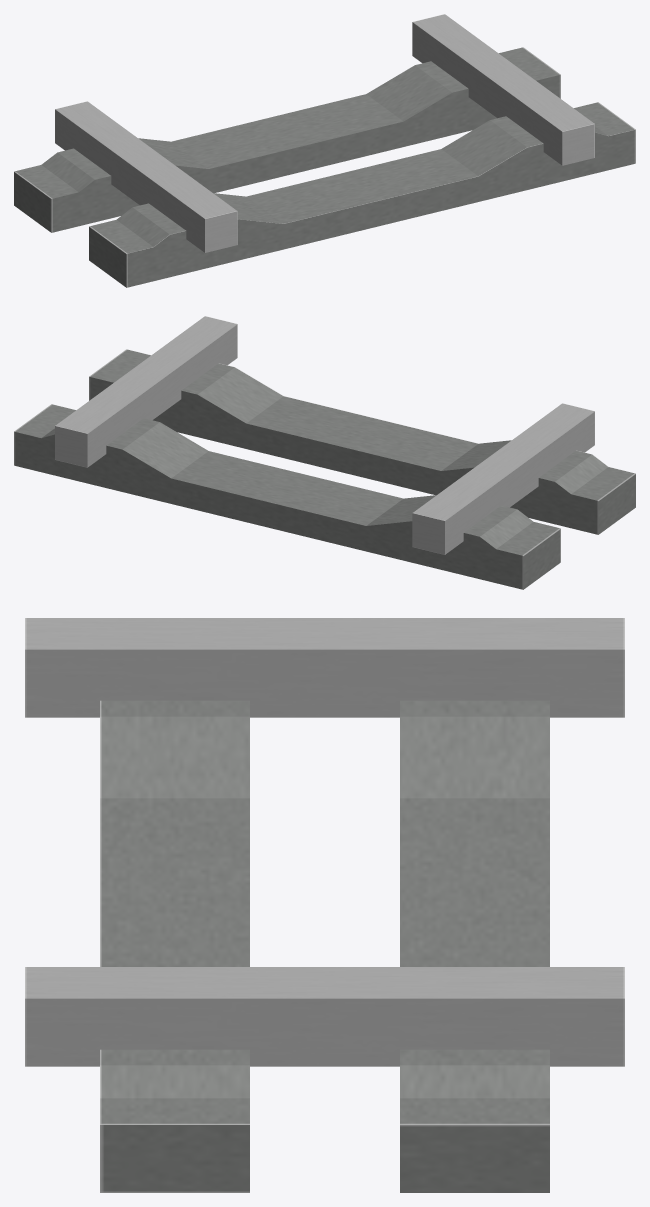
File: rail_nor_straight.obj
3 renders of one model, top to bottom at view 1: azimuth 30°, elevation 25°; view 2: azimuth 150°, elevation 25°; view 3: azimuth 270°, elevation 25°, orthographic. The views are drawn at different scales.
Parts seen in each view (by area): view 1: b2, b3, r1, r2; view 2: b3, b2, r1, r2; view 3: b2, b3, r1, r2.
Boxes of the visible parts, x1,y1,x2,y2 form: b2: (89,102,635,287); b3: (14,47,560,232); r1: (412,14,594,165); r2: (55,101,237,252); b3: (14,404,560,589); b2: (89,349,635,534); r1: (55,316,237,467); r2: (412,403,594,554); b2: (100,700,249,1192); b3: (400,700,549,1192); r1: (25,967,624,1066); r2: (25,618,624,717).
Size of the model in its own units: 1.96 by 0.25 by 1.
